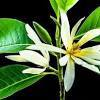jasmine: (35, 59, 99, 99), (69, 13, 95, 51), (16, 45, 33, 73)
